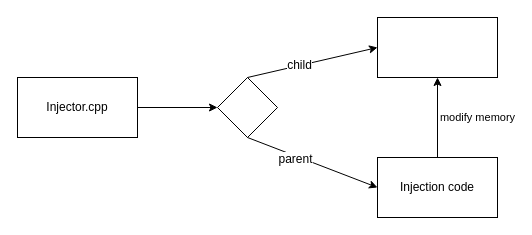
Some shapes in this 532 by 235 pixel diagram are drawn without their labels. Each missing label, with the centre of its shape:
exec: target: point 437,47
vfork: point 247,107
